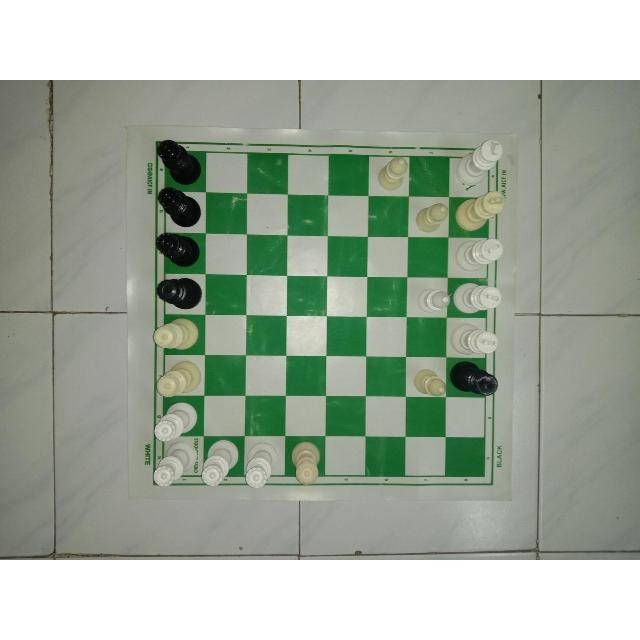black-king: (448, 358, 500, 397)
black-queen: (154, 136, 204, 187), (153, 187, 204, 231), (151, 230, 203, 270), (154, 271, 206, 311)
white-bishop: (374, 153, 410, 195), (410, 366, 450, 402), (411, 201, 451, 235), (414, 283, 448, 316)
white-king: (454, 136, 505, 188), (454, 189, 510, 233), (450, 235, 505, 275), (451, 278, 503, 316), (449, 322, 501, 356)
white-queen: (149, 442, 199, 490), (243, 438, 283, 493), (200, 436, 242, 488), (151, 401, 200, 443), (154, 359, 206, 398), (151, 317, 203, 353), (286, 438, 323, 488)
